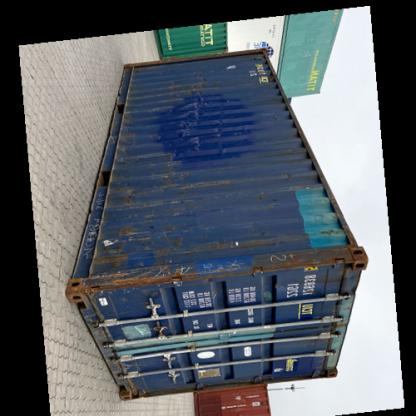Damage: (80, 263, 198, 296), (155, 162, 245, 191), (210, 86, 236, 158), (95, 226, 162, 252), (182, 98, 206, 151), (266, 247, 304, 269), (122, 171, 140, 213), (208, 236, 247, 252), (276, 171, 305, 188), (316, 224, 346, 240)
